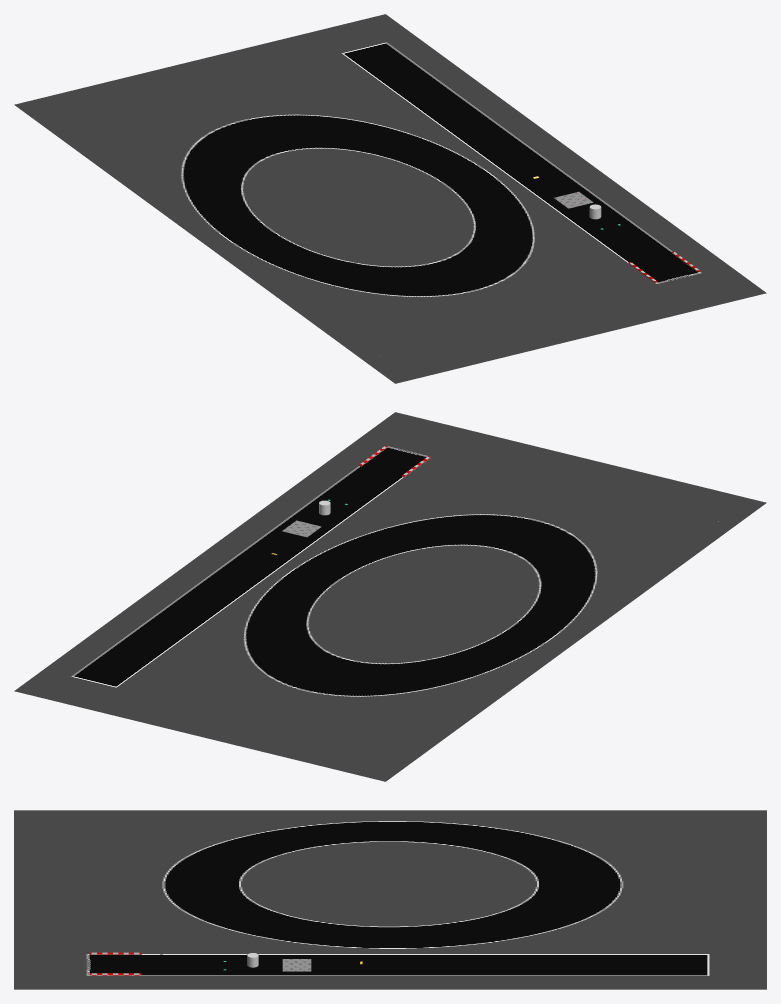
The model's file is track_template.fbx.
The picture shows the model from 3 angles, top to bottom: view 1: azimuth 30°, elevation 25°; view 2: azimuth 150°, elevation 25°; view 3: azimuth 270°, elevation 25°; orthographic projection.
Parts seen in each view (by area): view 1: track; view 2: track; view 3: track, magnetpad.
Boxes of the visible parts, x1=… form: track: x1=14, y1=14, x2=766, y2=383; track: x1=14, y1=412, x2=766, y2=781; track: x1=14, y1=810, x2=766, y2=989; magnetpad: x1=282, y1=959, x2=311, y2=971.
Size of what is drawn, in the model's own units: 7480 by 232 by 13293.
7 materials, 7 textured.
